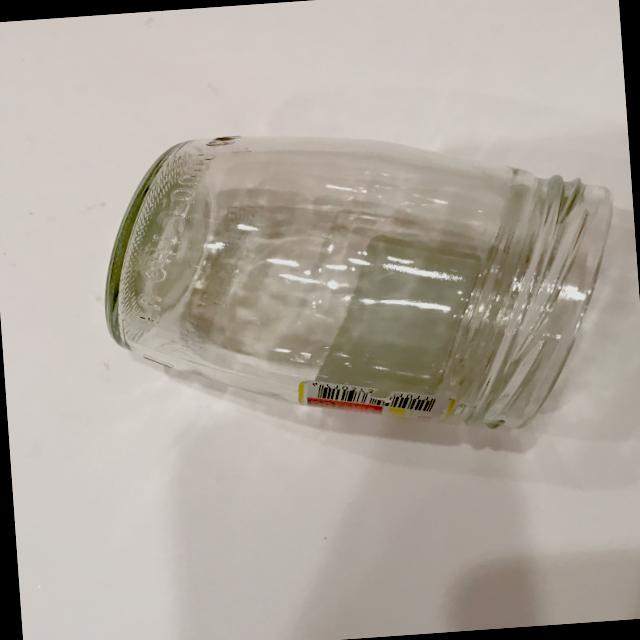Glass: (81, 106, 631, 464)
